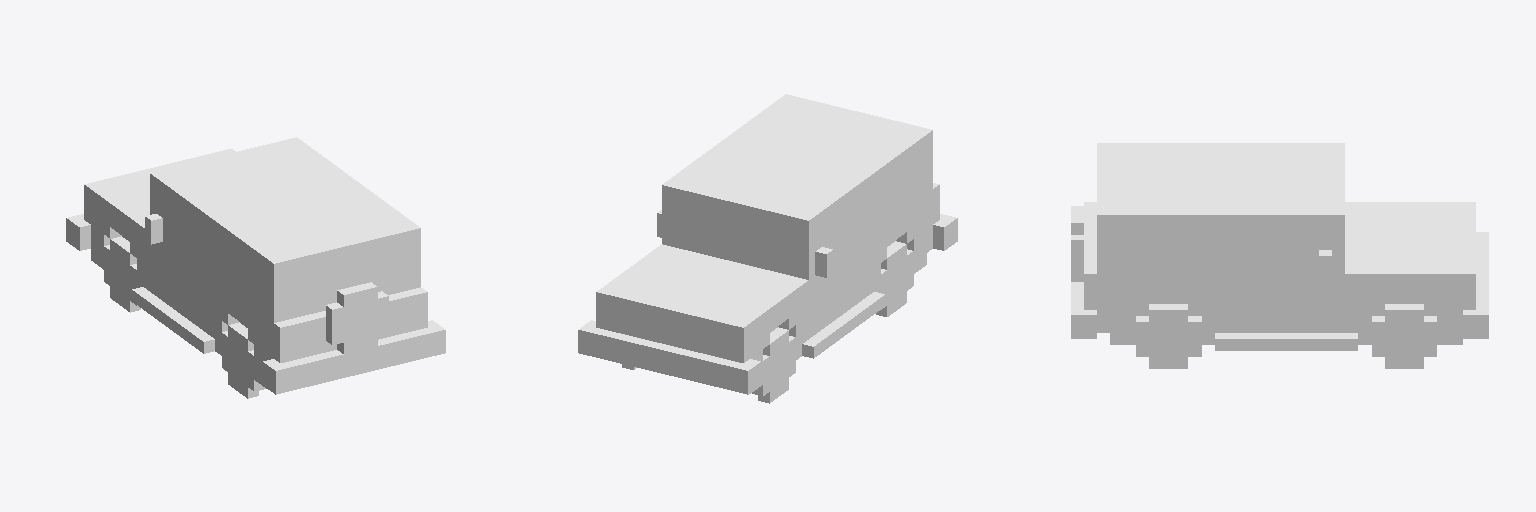
Rendered from car-16.obj.
The picture shows the model from 3 angles: view 1: azimuth 30°, elevation 25°; view 2: azimuth 150°, elevation 25°; view 3: azimuth 270°, elevation 25°; orthographic projection.
Visible parts, largest first — view 1: object 1; view 2: object 1; view 3: object 1.
Boxes of the visible parts, x1=… form: object 1: x1=66, y1=137, x2=445, y2=398; object 1: x1=578, y1=94, x2=957, y2=403; object 1: x1=1071, y1=143, x2=1488, y2=368.
Size of the model in its own units: 1.5 by 1.3 by 3.2.